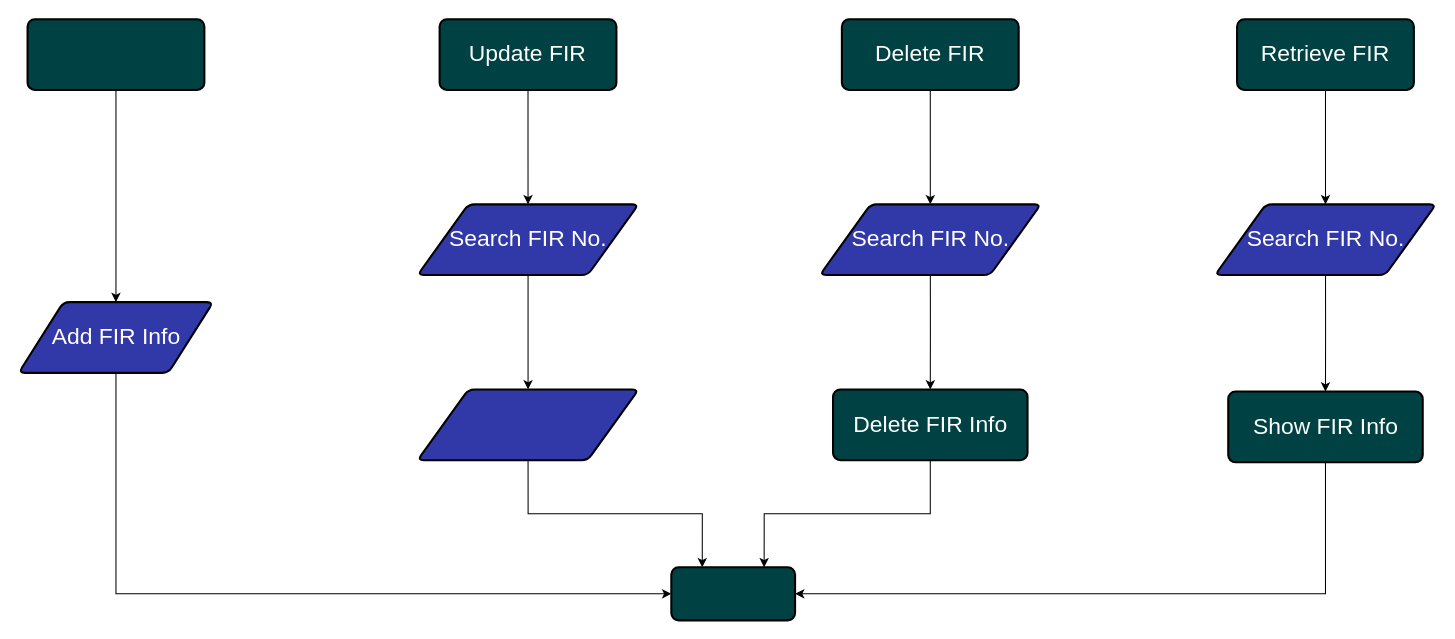
Some shapes in this 1455 by 639 pixel diagram are drawn without their labels. Here are the shapes that lost their labels. From the top down, the centre of each, then its label:
[115,54]: Register FIR
[527,424]: Update FIR Info
[733,593]: Home
